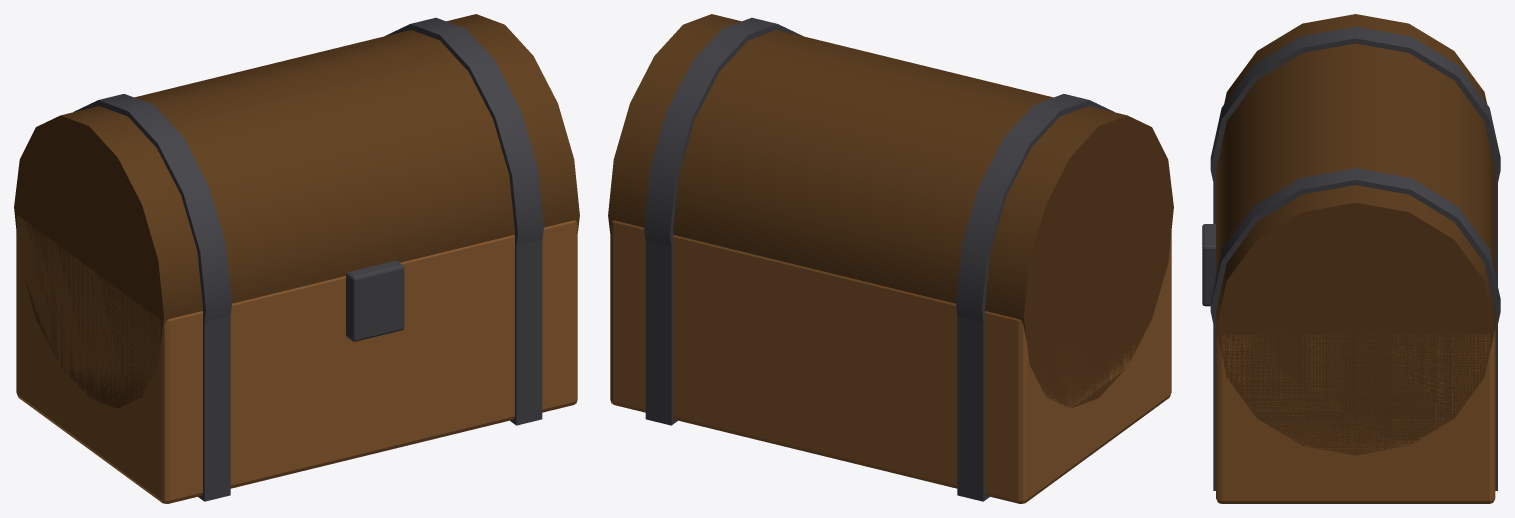
The model's file is gen_treasure_chest.mobile-mid.glb.
3 views of the same model, side by side, from view 1: azimuth 30°, elevation 25°; view 2: azimuth 150°, elevation 25°; view 3: azimuth 270°, elevation 25° (orthographic). The views are drawn at different scales.
Visible parts, largest first — view 1: chest_lid, gen_treasure_chest; view 2: chest_lid, gen_treasure_chest; view 3: chest_lid, gen_treasure_chest.
Boxes of the visible parts, x1,y1,x2,y2 form: chest_lid: (14, 14, 579, 408); gen_treasure_chest: (16, 215, 577, 503); chest_lid: (608, 14, 1173, 408); gen_treasure_chest: (610, 220, 1171, 503); chest_lid: (1210, 14, 1500, 455); gen_treasure_chest: (1202, 167, 1497, 503).
Bounding box in the file's own units: 0.8 × 0.615 × 0.535.
Materials: 1 (1 with a texture image).
